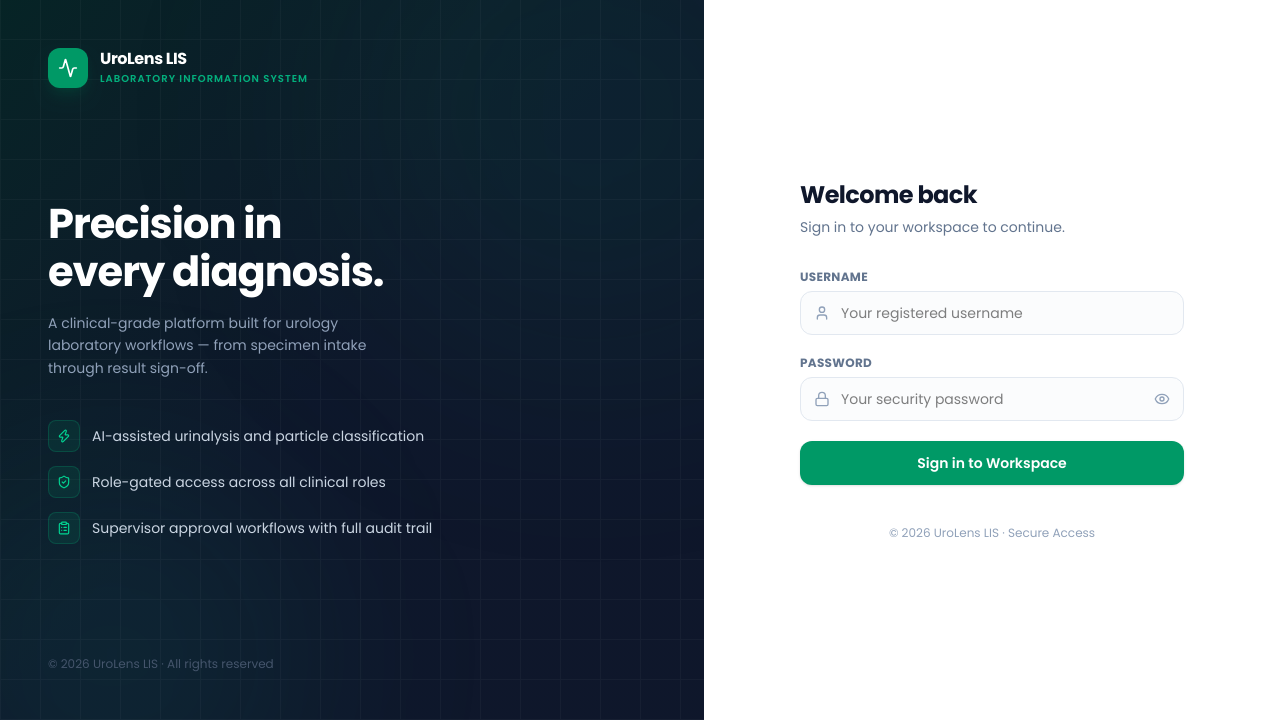
Test: LoginForm › clears field errors when user types
Click the button "Sign in to Workspace" at (992, 463), box [800, 441, 1184, 485]
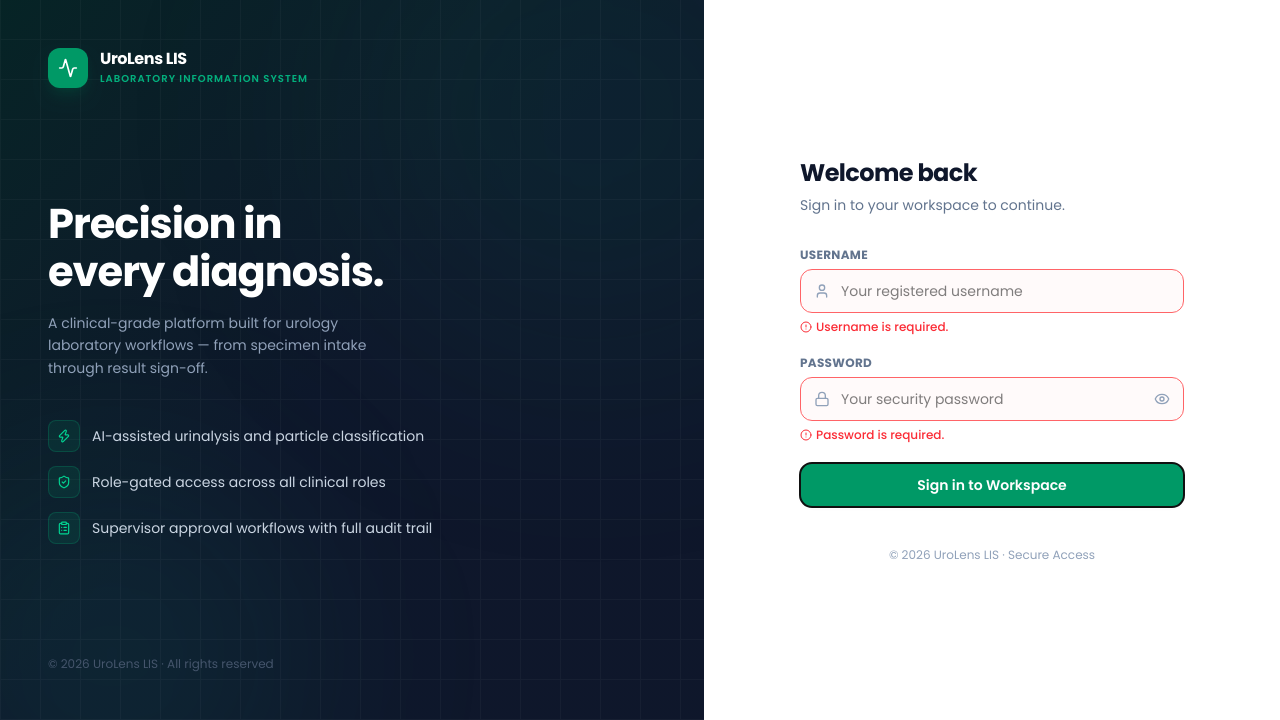
Expected: the text "Username is required." is shown, [800, 318, 948, 335]
Type "test" into the field labelled "Username" at (992, 291), box [800, 269, 1184, 313]
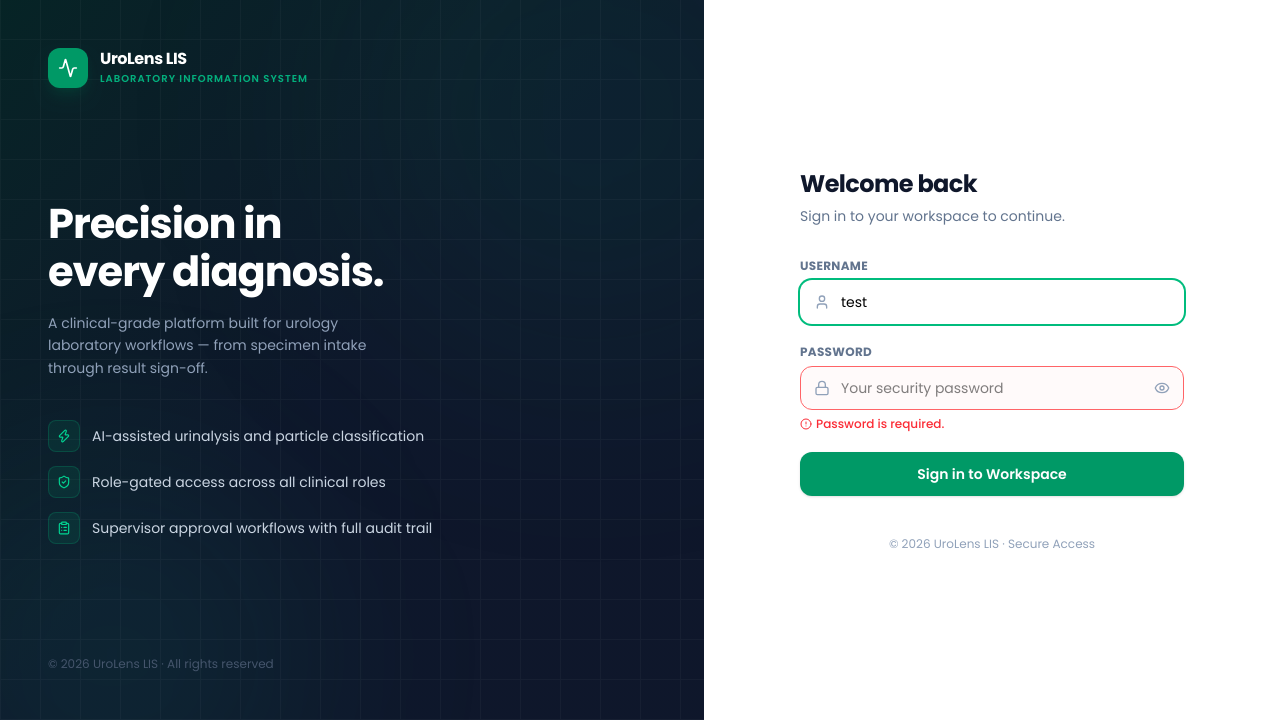
Expected: the text "Username is required." is gone
